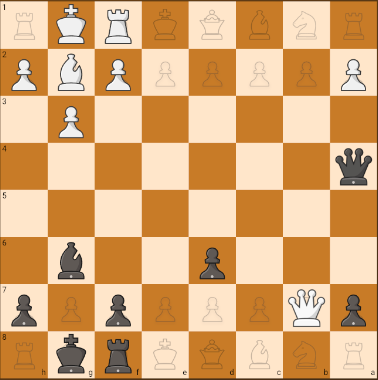bb: (52, 239, 94, 284)
bk: (50, 332, 93, 377)
bp: (3, 289, 43, 329), (190, 242, 231, 281), (98, 289, 136, 328)
bq: (332, 142, 378, 190)
br: (332, 288, 373, 329), (101, 335, 138, 377)
wk: (49, 1, 95, 47), (287, 286, 326, 330)
wp: (331, 49, 374, 95), (3, 53, 44, 94), (101, 54, 136, 94), (58, 101, 86, 140)
wq: (53, 51, 90, 94)
wr: (100, 7, 138, 46)
